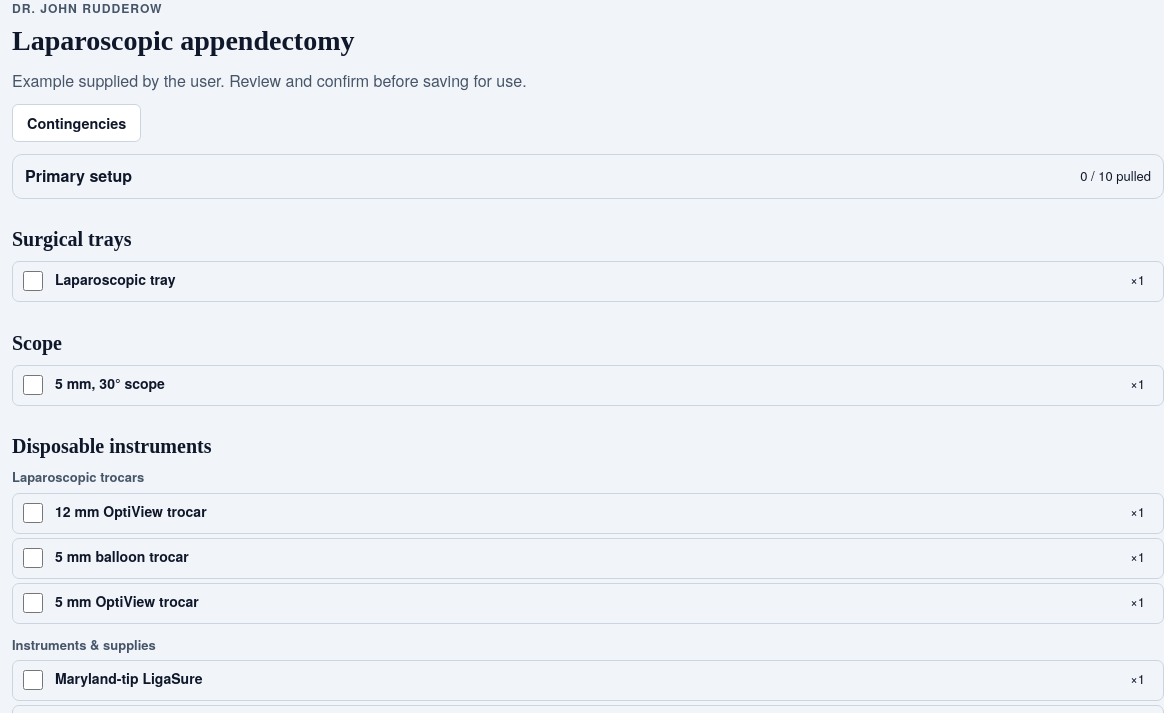
Test: shows ordered alternatives and removes closure alternatives under the bypass contingency
What coordinates should you click on to do the following:
click the button with class "cp-contingency-toggle"
I would click on:
 (77, 123)
Its box is [12, 104, 141, 142].
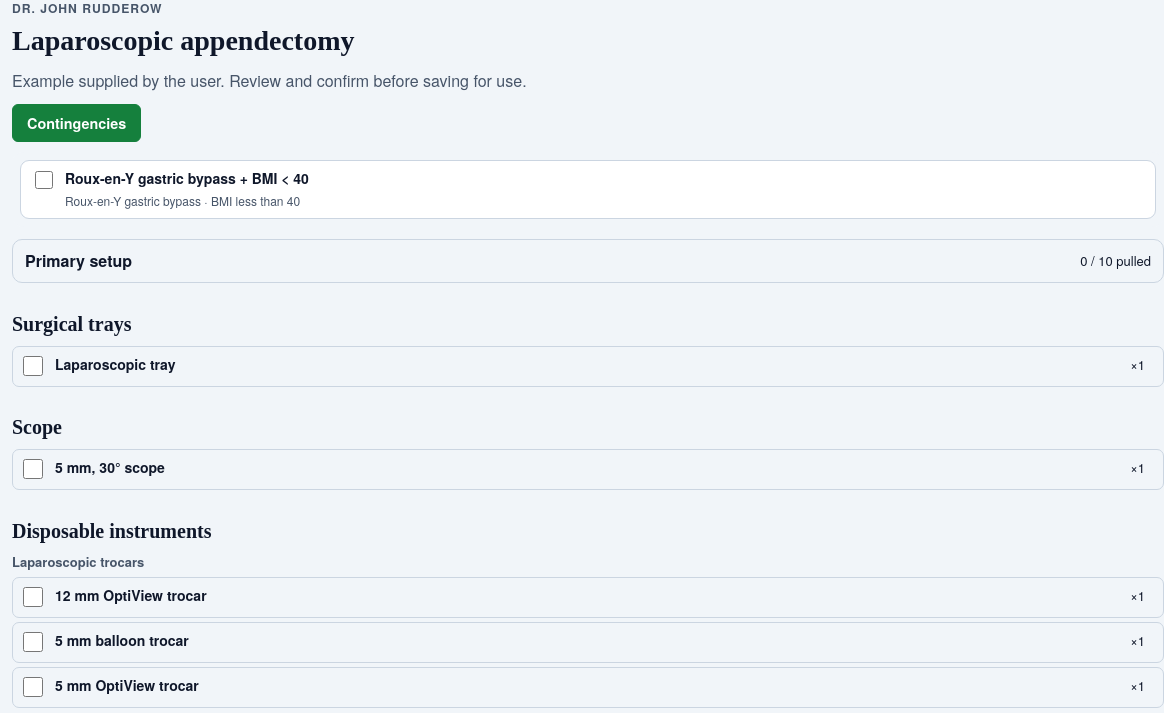
What coordinates should you click on to do the following:
click the 1st checkbox
I would click on:
 (44, 180)
Its box is [35, 171, 53, 189].
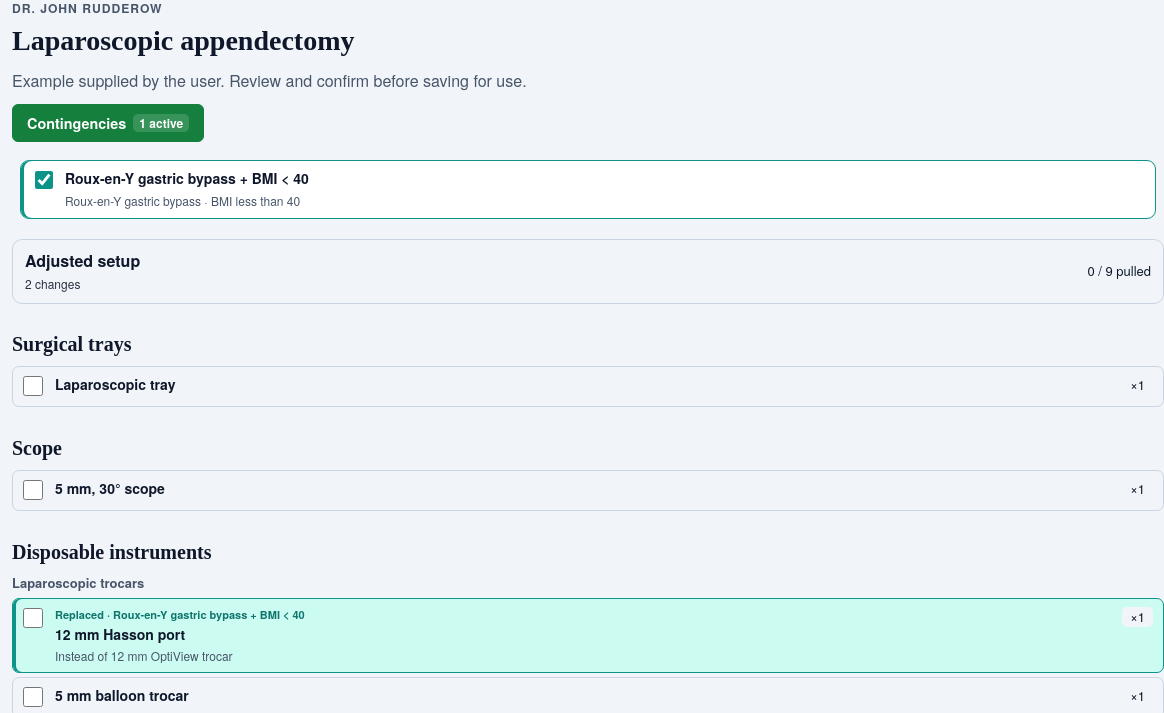
Expected: the element with class "cp-replaced" shows "12 mm Hasson port", [55, 624, 185, 644]
What coordinates should you click on to do the following:
click the 1st checkbox
I would click on:
 (44, 180)
Its box is [35, 171, 53, 189].
(page scrolled)
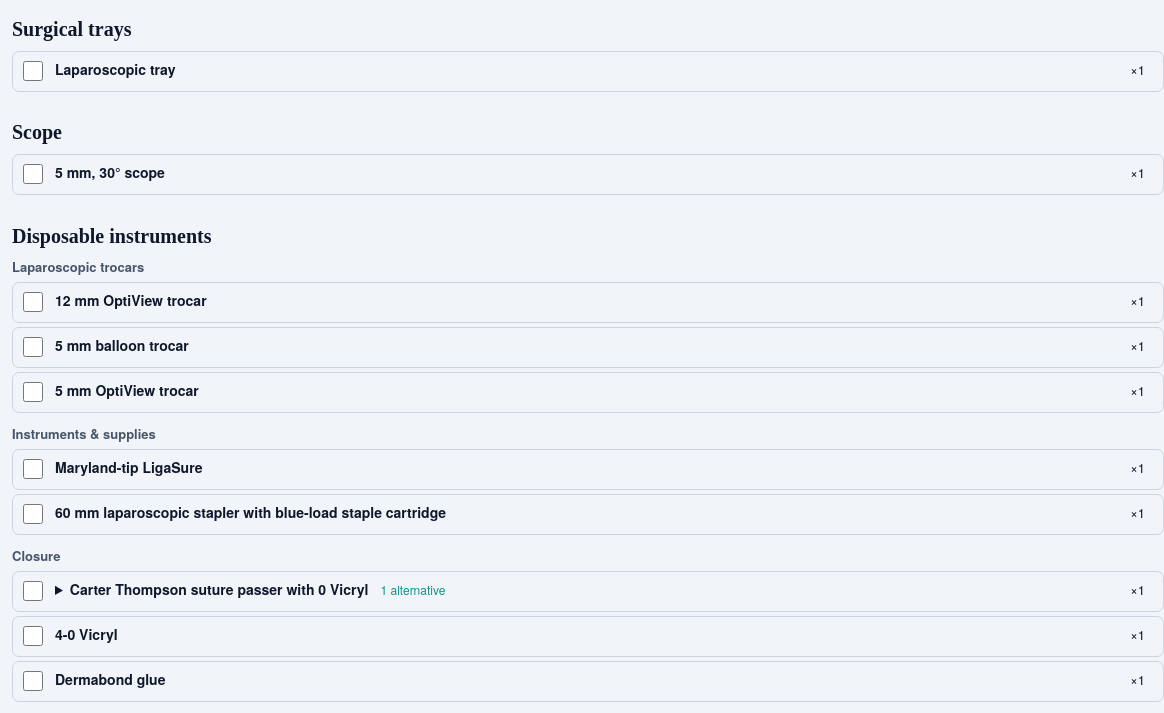
Expected: the element showing "Carter Thompson suture passer with 0 Vicryl 1 alternative" is shown, [70, 579, 445, 599]
